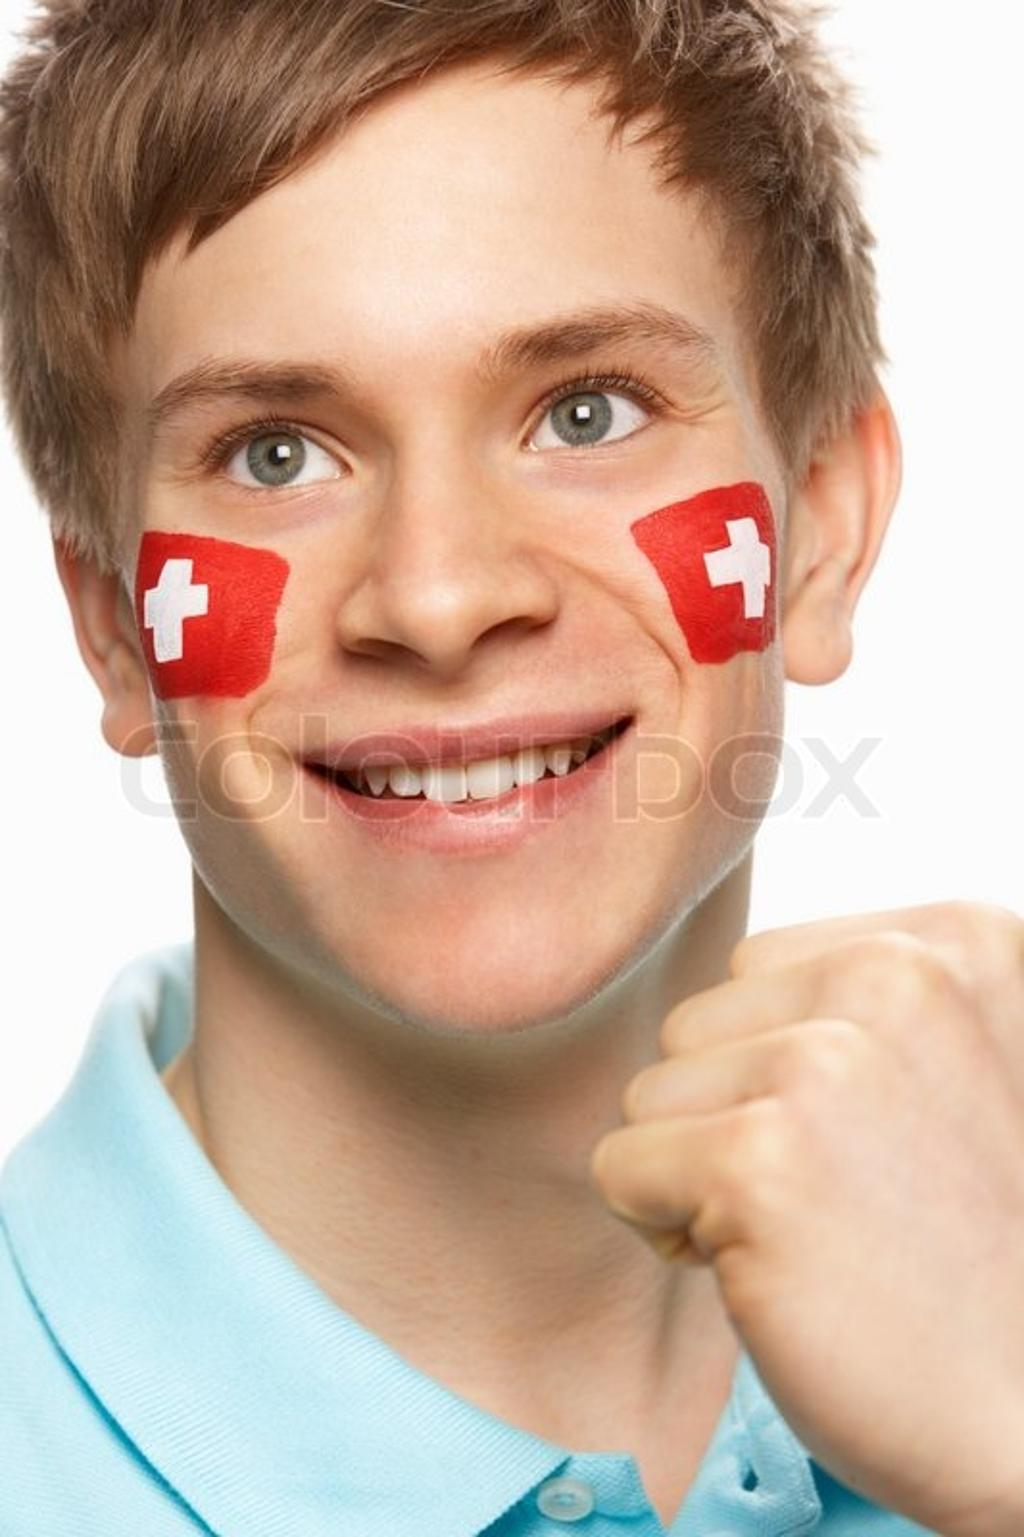face: (124, 109, 791, 1040)
